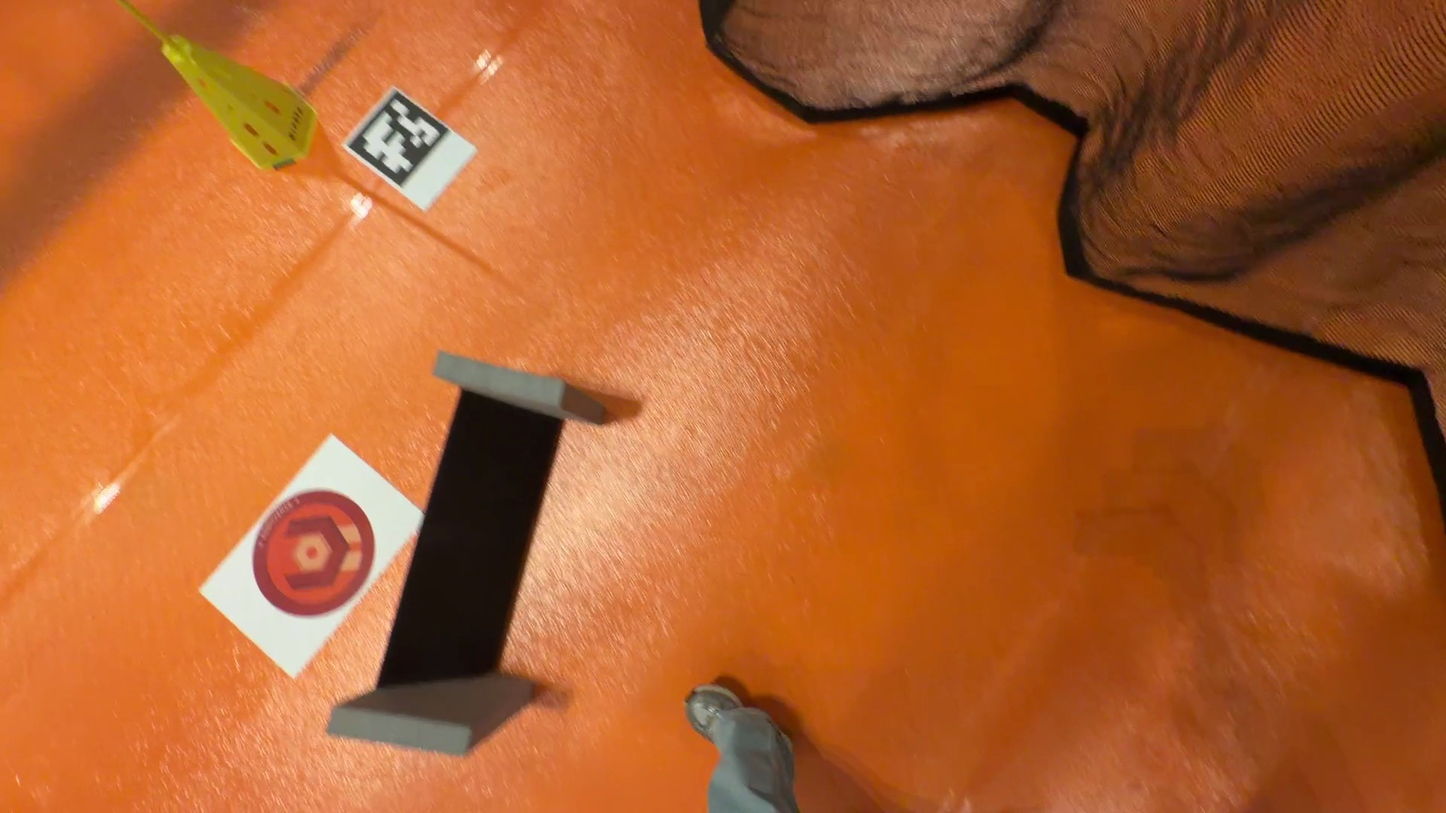landing_pad: (255, 486, 377, 617)
